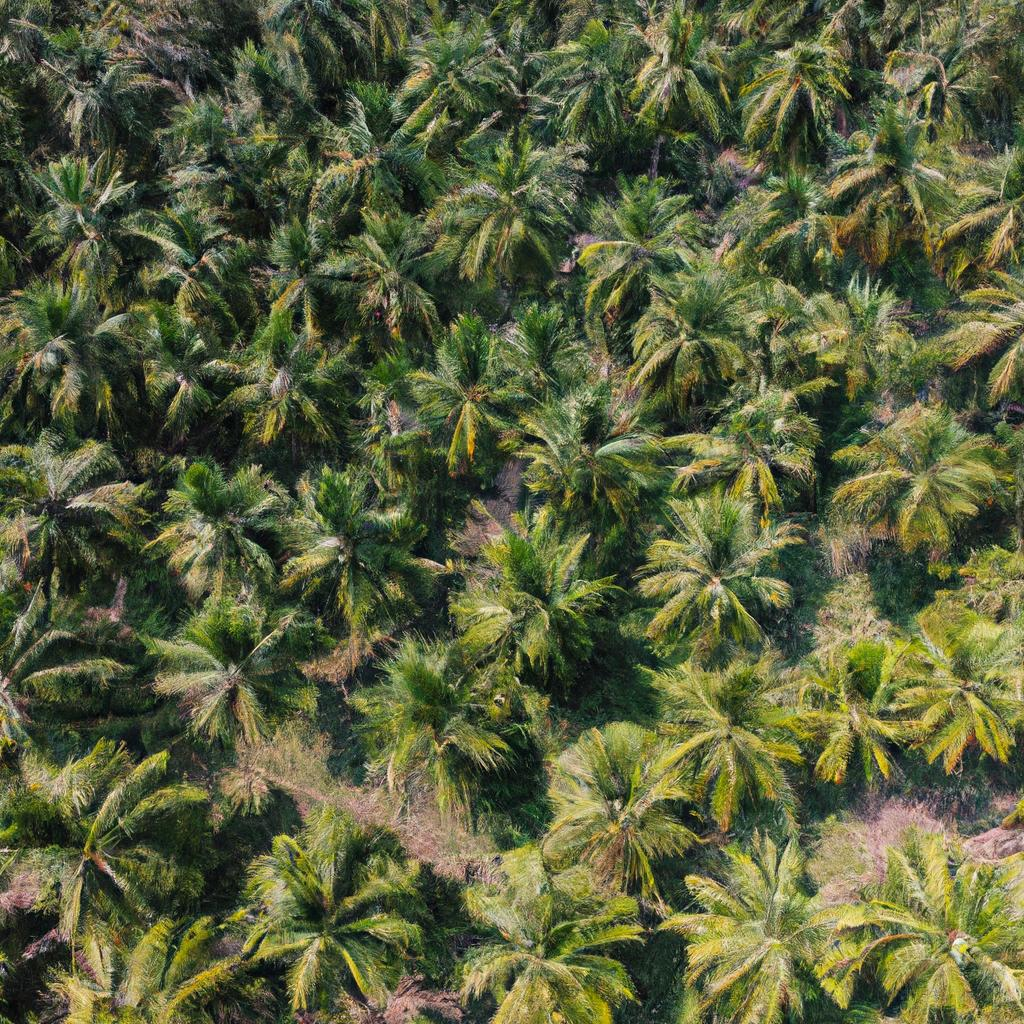coconut_tree: (838, 818, 1023, 1021), (232, 815, 429, 1001), (828, 391, 1005, 569), (537, 713, 704, 897), (184, 303, 367, 468), (664, 858, 835, 1023), (156, 593, 338, 745), (456, 518, 629, 672), (659, 653, 815, 823), (629, 493, 804, 642), (884, 604, 1023, 780), (456, 883, 626, 1023), (784, 618, 913, 801), (410, 321, 558, 464), (164, 447, 300, 589)
